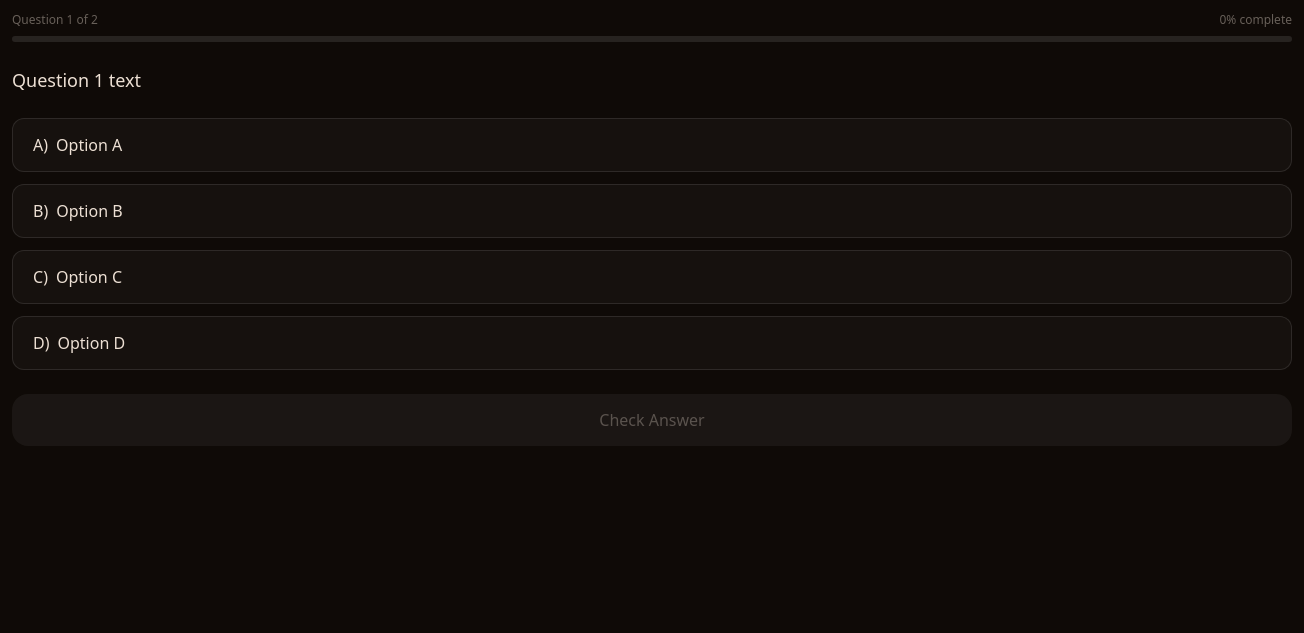
Test: QuizRenderer — answer reveal › switches "Check Answer" to "Next Question" after reveal (non-last question)
Click the button "B)Option B" at (89, 211), box x1=12 y1=184 x2=1292 y2=238
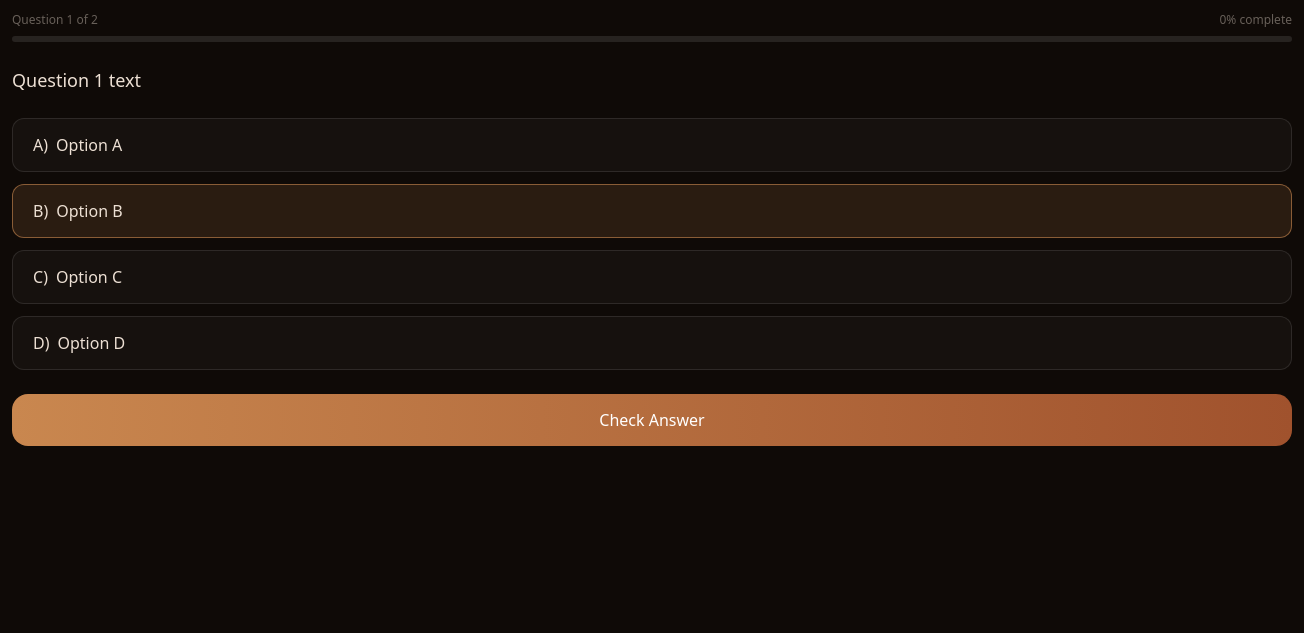
Click the button "Check Answer" at (652, 420), box x1=12 y1=394 x2=1292 y2=446
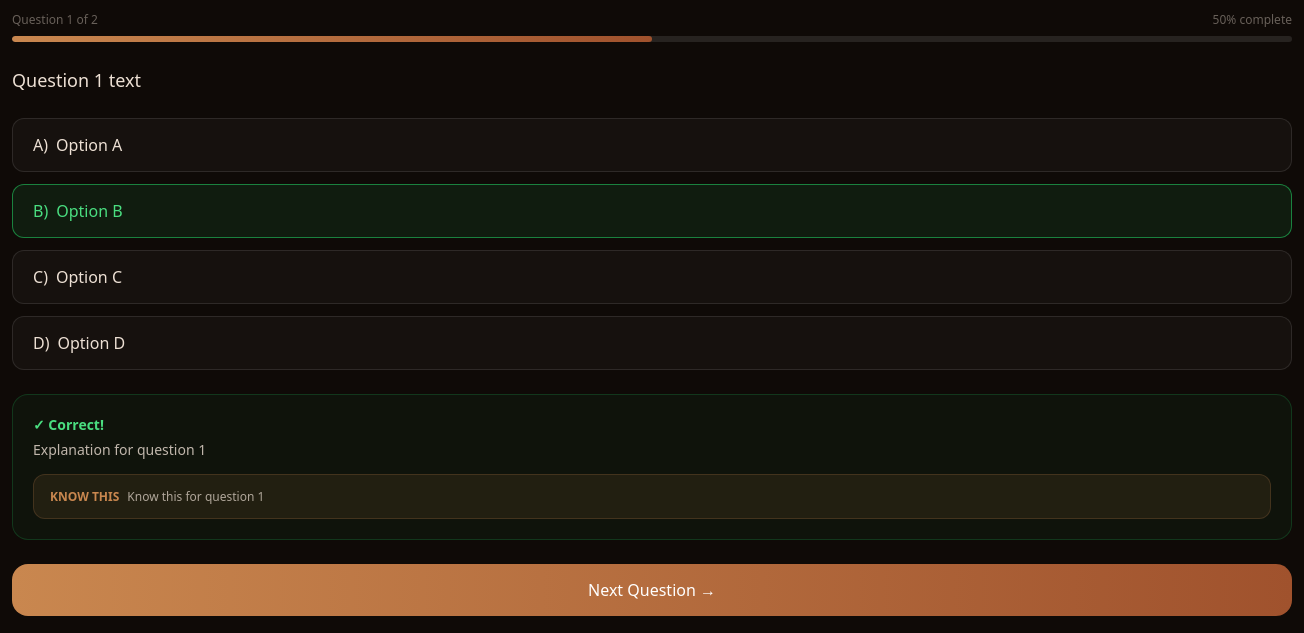
Check: the button "Next Question →" is shown, box x1=12 y1=564 x2=1292 y2=616
